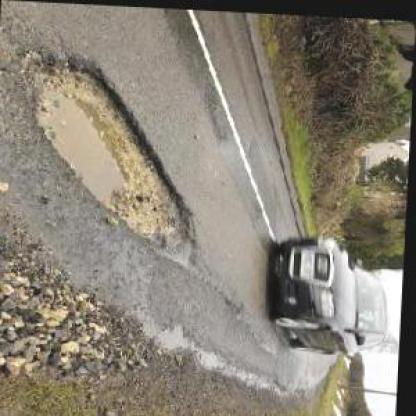pothole: (29, 54, 207, 266)
